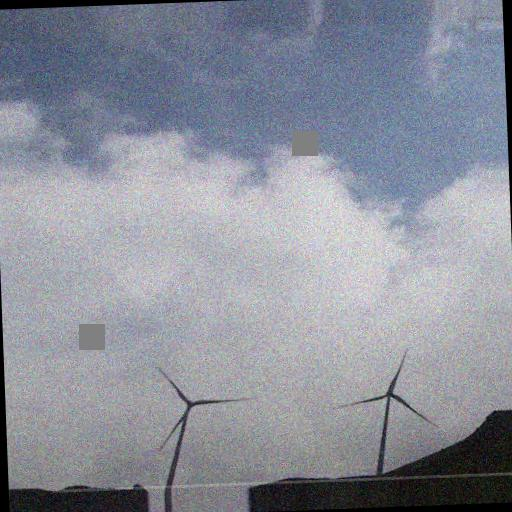wind turbine: (330, 347, 444, 470), (154, 365, 255, 481)
